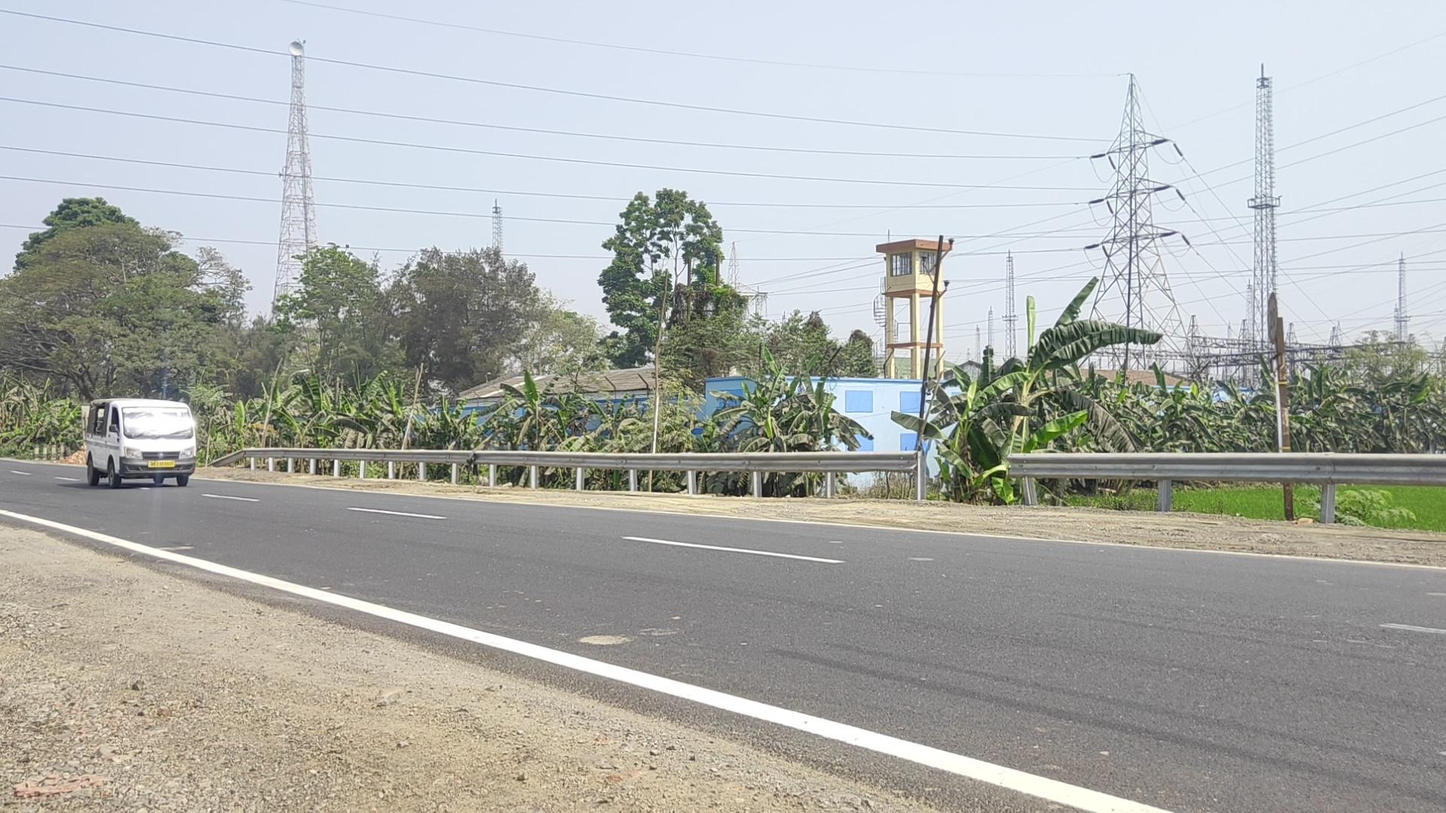van: (84, 397, 197, 489)
